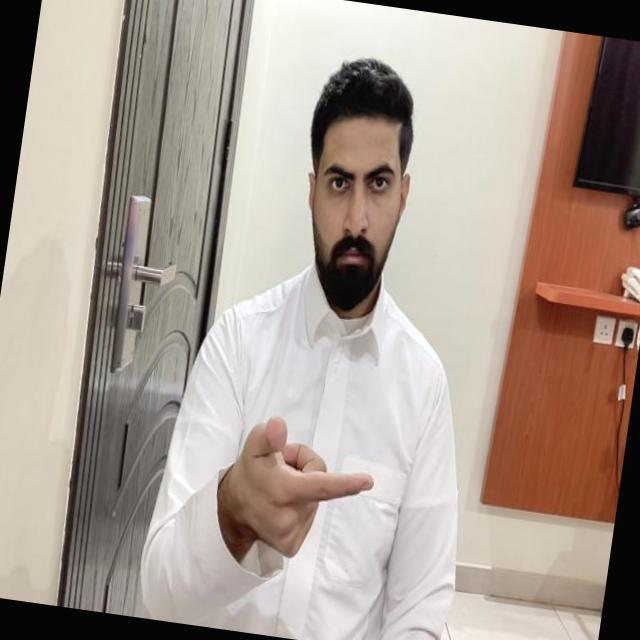dispensing: (212, 408, 382, 568)
